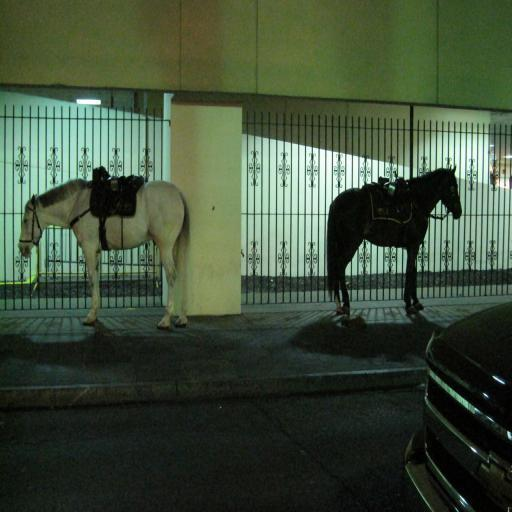horse: (18, 176, 190, 330), (326, 162, 462, 314)
